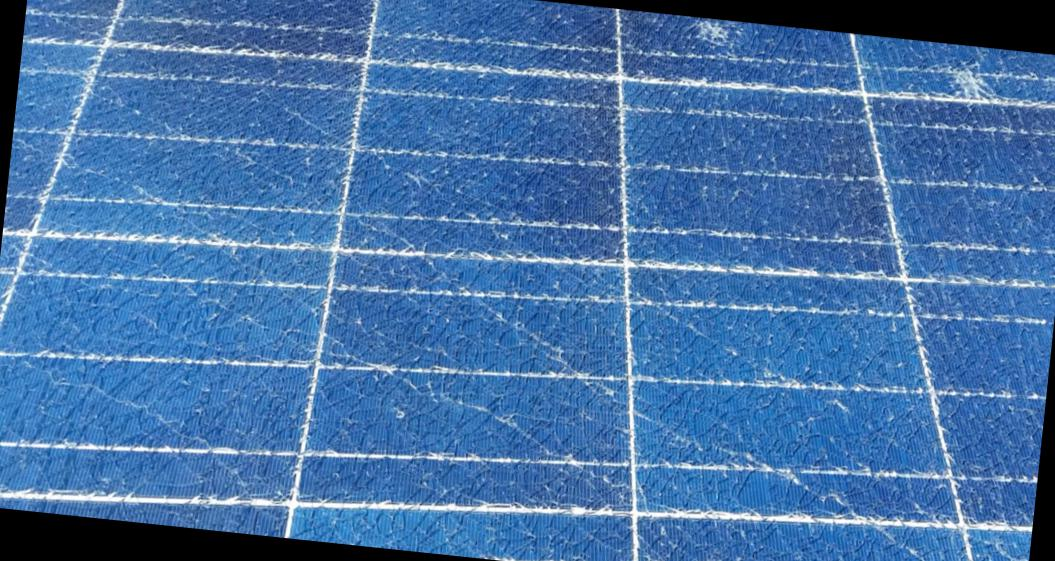Crack: (0, 0, 1054, 560), (923, 49, 1011, 119), (674, 14, 758, 64)
